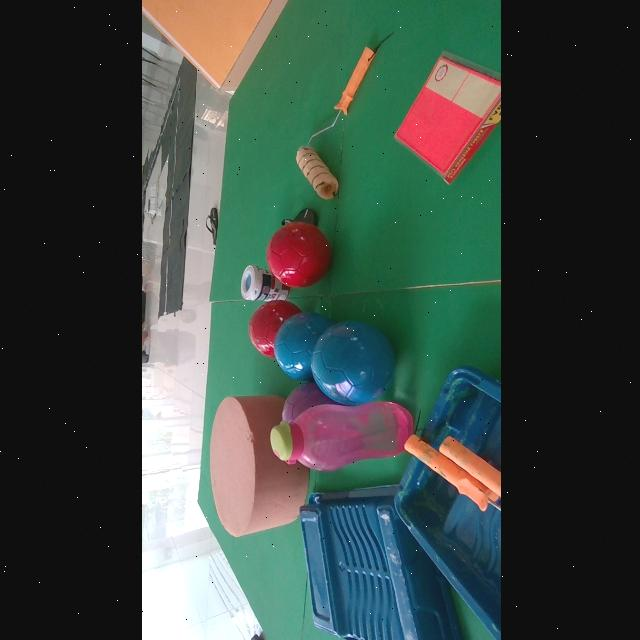B: (309, 321, 393, 406), (273, 312, 331, 381)
P: (280, 382, 337, 423)
R: (265, 221, 329, 288), (246, 300, 299, 358)
